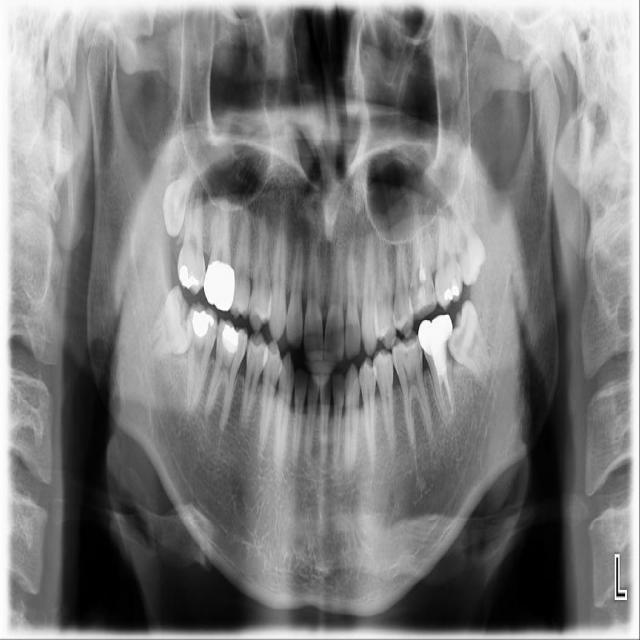3M ESPE Implant: (158, 173, 190, 238)
52: (211, 317, 251, 372), (175, 244, 208, 297), (201, 263, 236, 312), (187, 301, 217, 354), (433, 261, 464, 311), (418, 314, 453, 355), (410, 272, 437, 320)
73: (422, 341, 470, 424), (400, 210, 432, 280), (610, 569, 618, 583)
BioHorizons Implant: (433, 202, 465, 311)
BioLife Implant: (447, 187, 490, 286)
Biomet 3i Implant: (434, 298, 499, 392)
Blue Sky Bio Implant: (416, 311, 457, 426)
Caries: (173, 170, 208, 296)
Implant: (180, 300, 220, 410)
Keystone Dental Implant: (151, 284, 193, 360)
